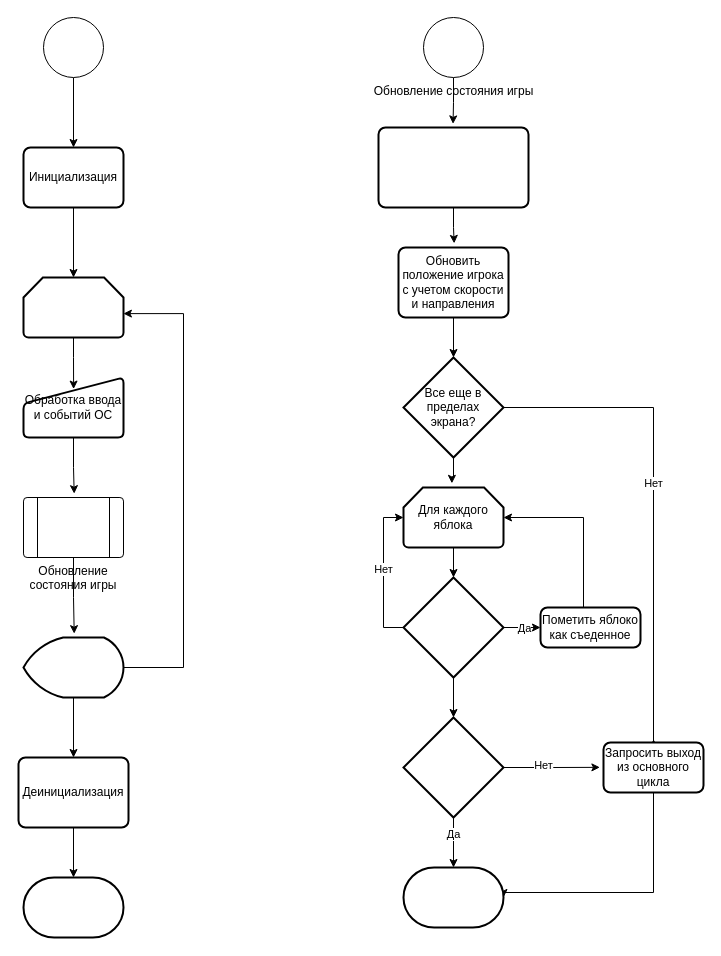
Some shapes in this 721 by 956 pixel diagram are drawn without their labels. The box of each missing label's shape, as (x1, y1, x2, y2) in pixels:
Есть еще несъеденные яблоки?: (402, 716, 504, 818)
Есть столкновение с яблоком?: (402, 576, 504, 678)
Обновить направление движение в зависимости от нажатой клавиши: (377, 126, 529, 208)
Отрисовка, вывод звука: (22, 636, 124, 698)
Пока не запрошен выход: (22, 276, 124, 338)
